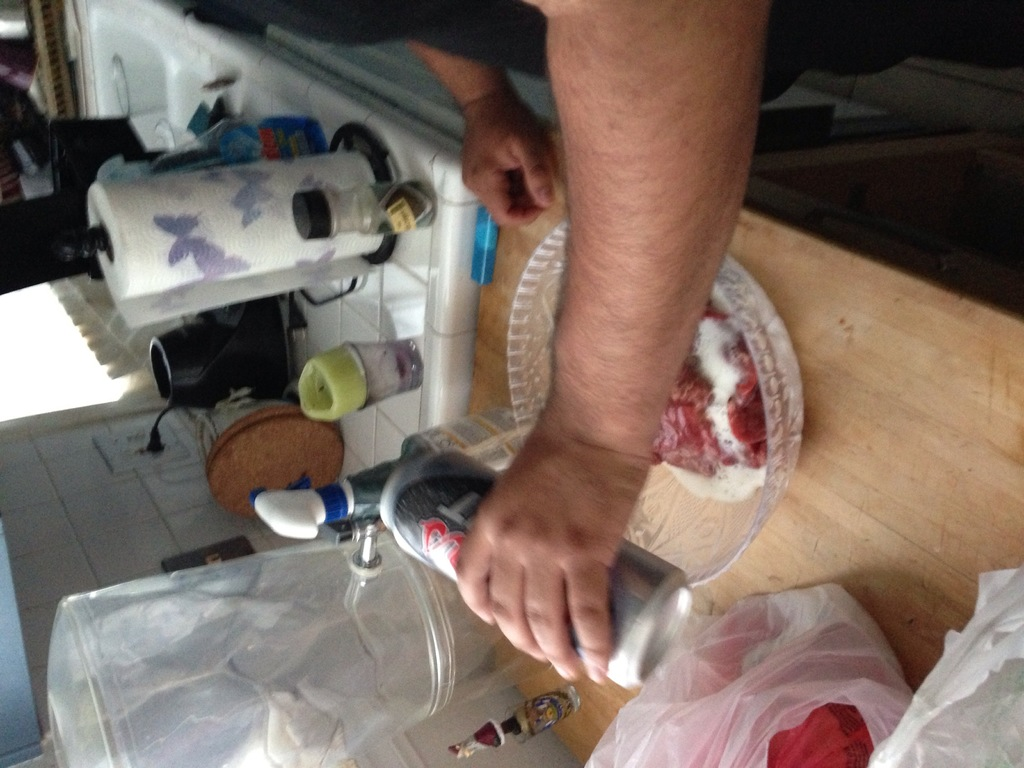Human_hand: (452, 420, 650, 687), (460, 89, 555, 227)
